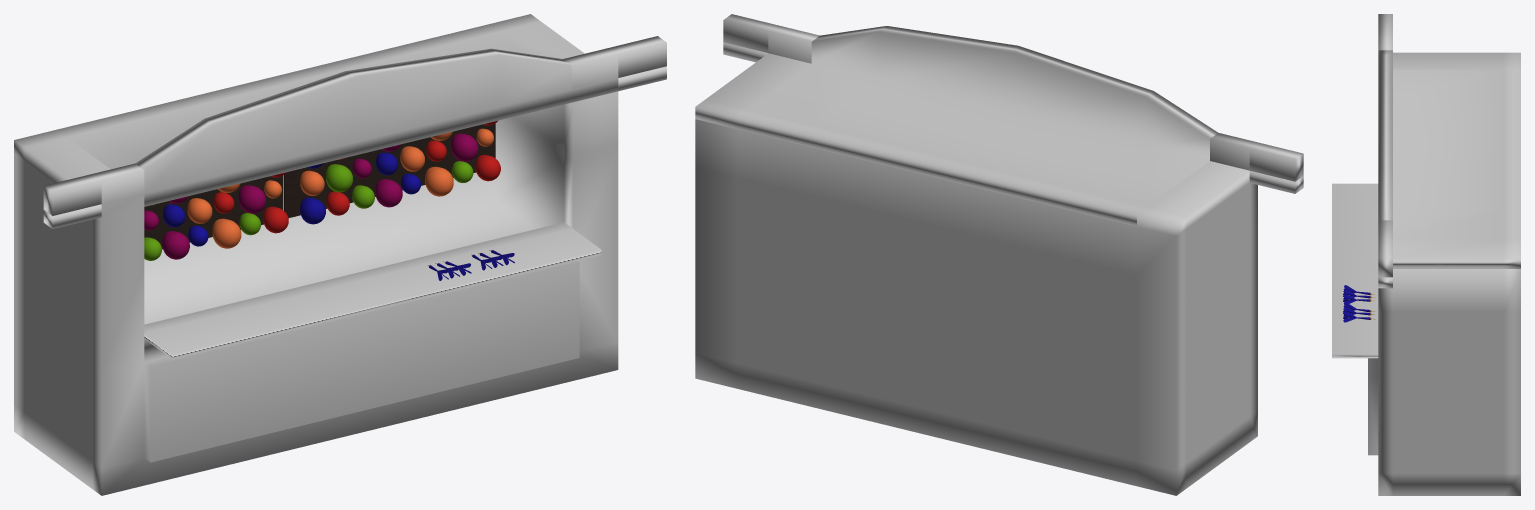
File: balloon.fbx
The picture shows the model from 3 angles, left to right: view 1: azimuth 30°, elevation 25°; view 2: azimuth 150°, elevation 25°; view 3: azimuth 270°, elevation 25°; orthographic projection. The views are drawn at different scales.
Visible parts, largest first — view 1: pasted__pCube1, pSphere32, pSphere31; view 2: pasted__pCube1; view 3: pasted__pCube1.
Boxes of the visible parts, x1,y1,x2,y2 form: pasted__pCube1: [14, 14, 666, 495]; pSphere32: [284, 123, 500, 224]; pSphere31: [144, 176, 288, 260]; pasted__pCube1: [695, 14, 1303, 495]; pasted__pCube1: [1332, 14, 1520, 495].
Bounding box in the file's own units: 8.84 × 4.9 × 2.89.
